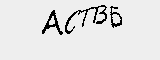А: (41, 8, 64, 37)
Б: (110, 5, 125, 29)
В: (93, 2, 107, 26)
С: (62, 7, 78, 38)
Т: (78, 5, 93, 31)
